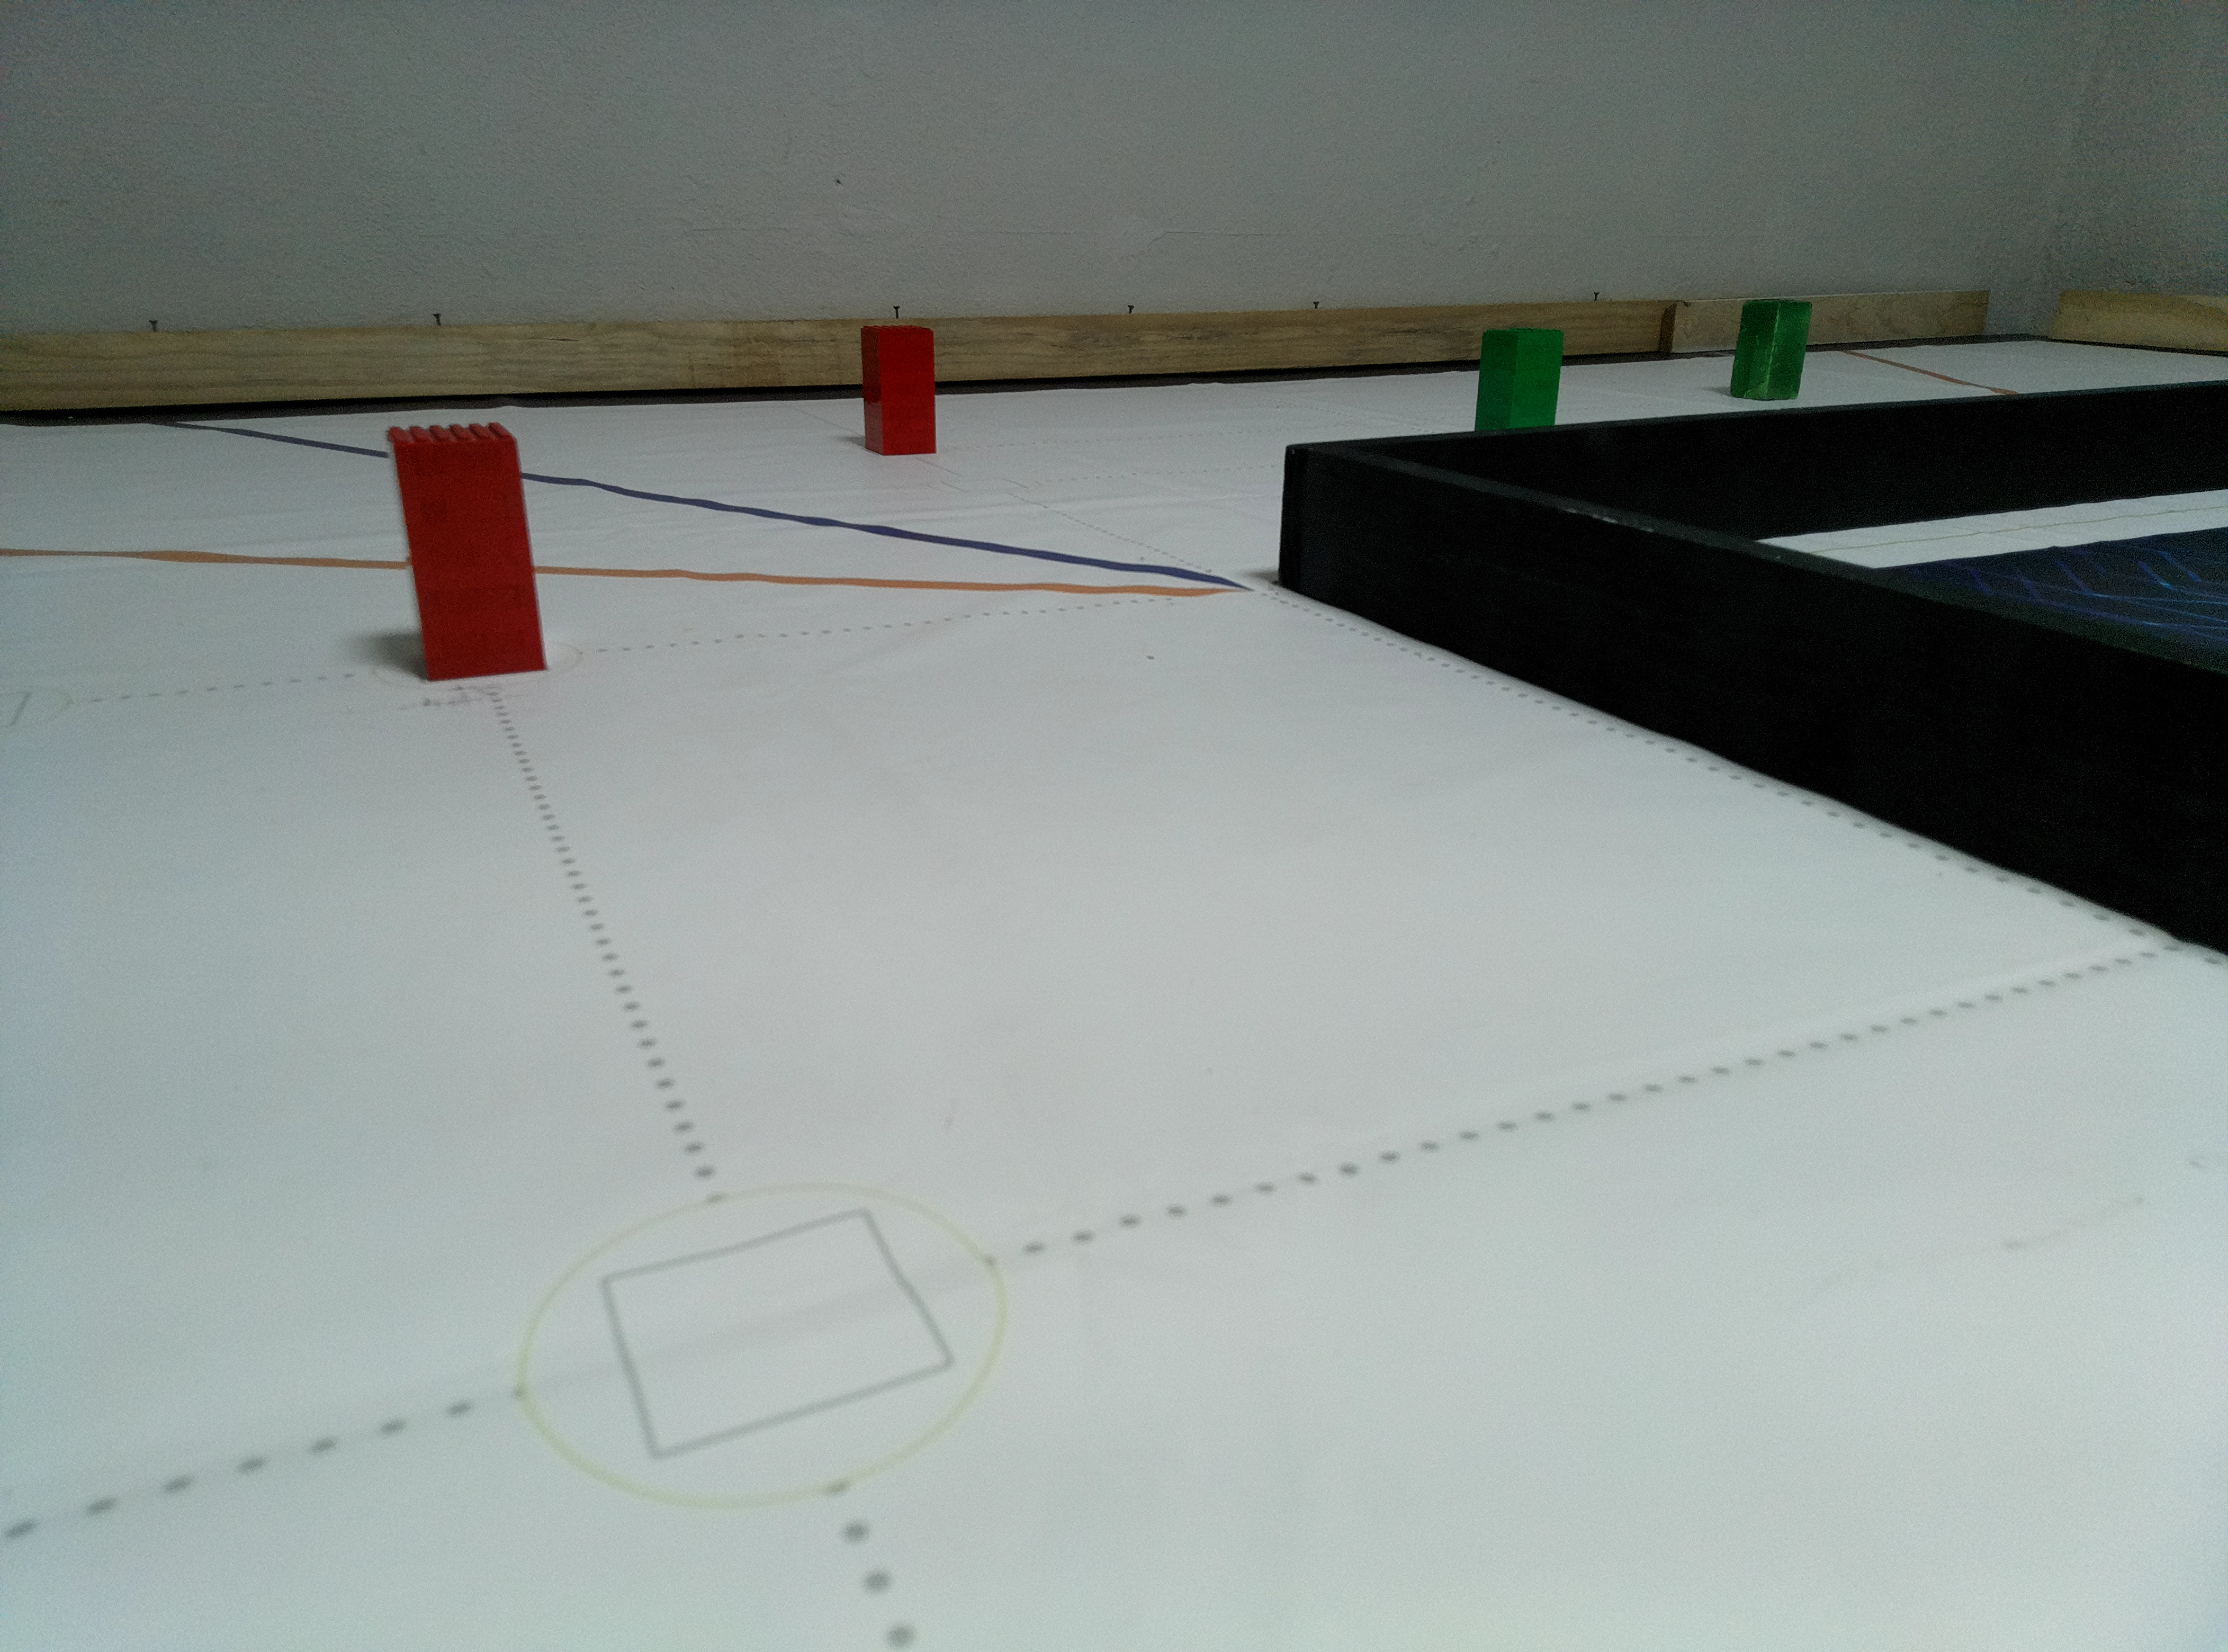greenbox: (1473, 328, 1563, 429), (1727, 298, 1813, 403)
redbox: (380, 422, 552, 682), (859, 324, 935, 456)
